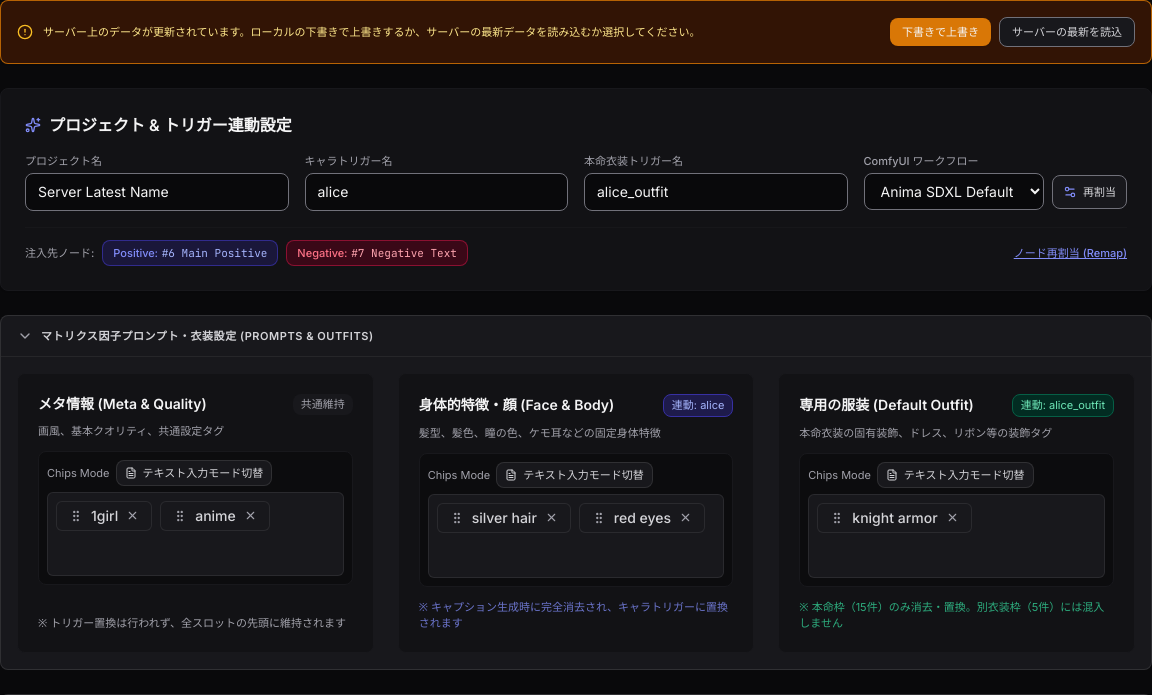
Test: MatrixGenerationStep › displays draft-conflict-alert and resolves conflict with draft (Red Team 5)
Expected: the element with test id "draft-conflict-alert" is shown, [0,0,1151,64]
Expected: the button with test id "resolve-conflict-server-btn" is shown, [999,17,1135,47]
Click "下書きで上書き"
Click the button with test id "resolve-conflict-draft-btn" at (941, 32), box [890,18,991,46]
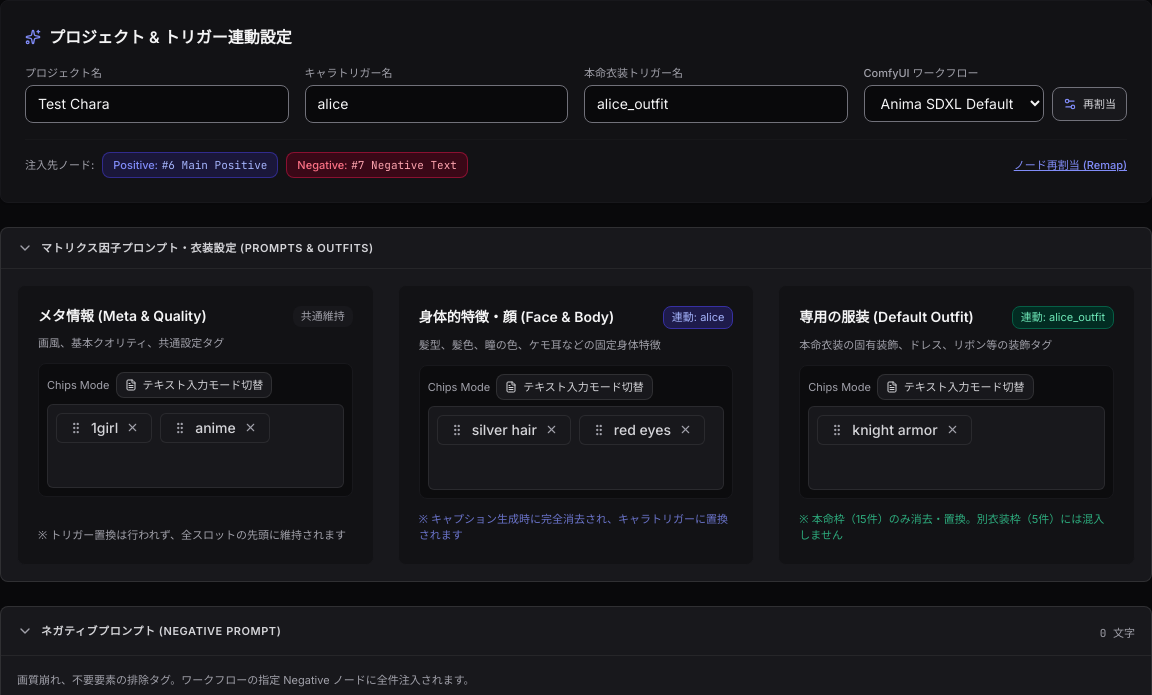
Now the element with test id "draft-conflict-alert" is gone
